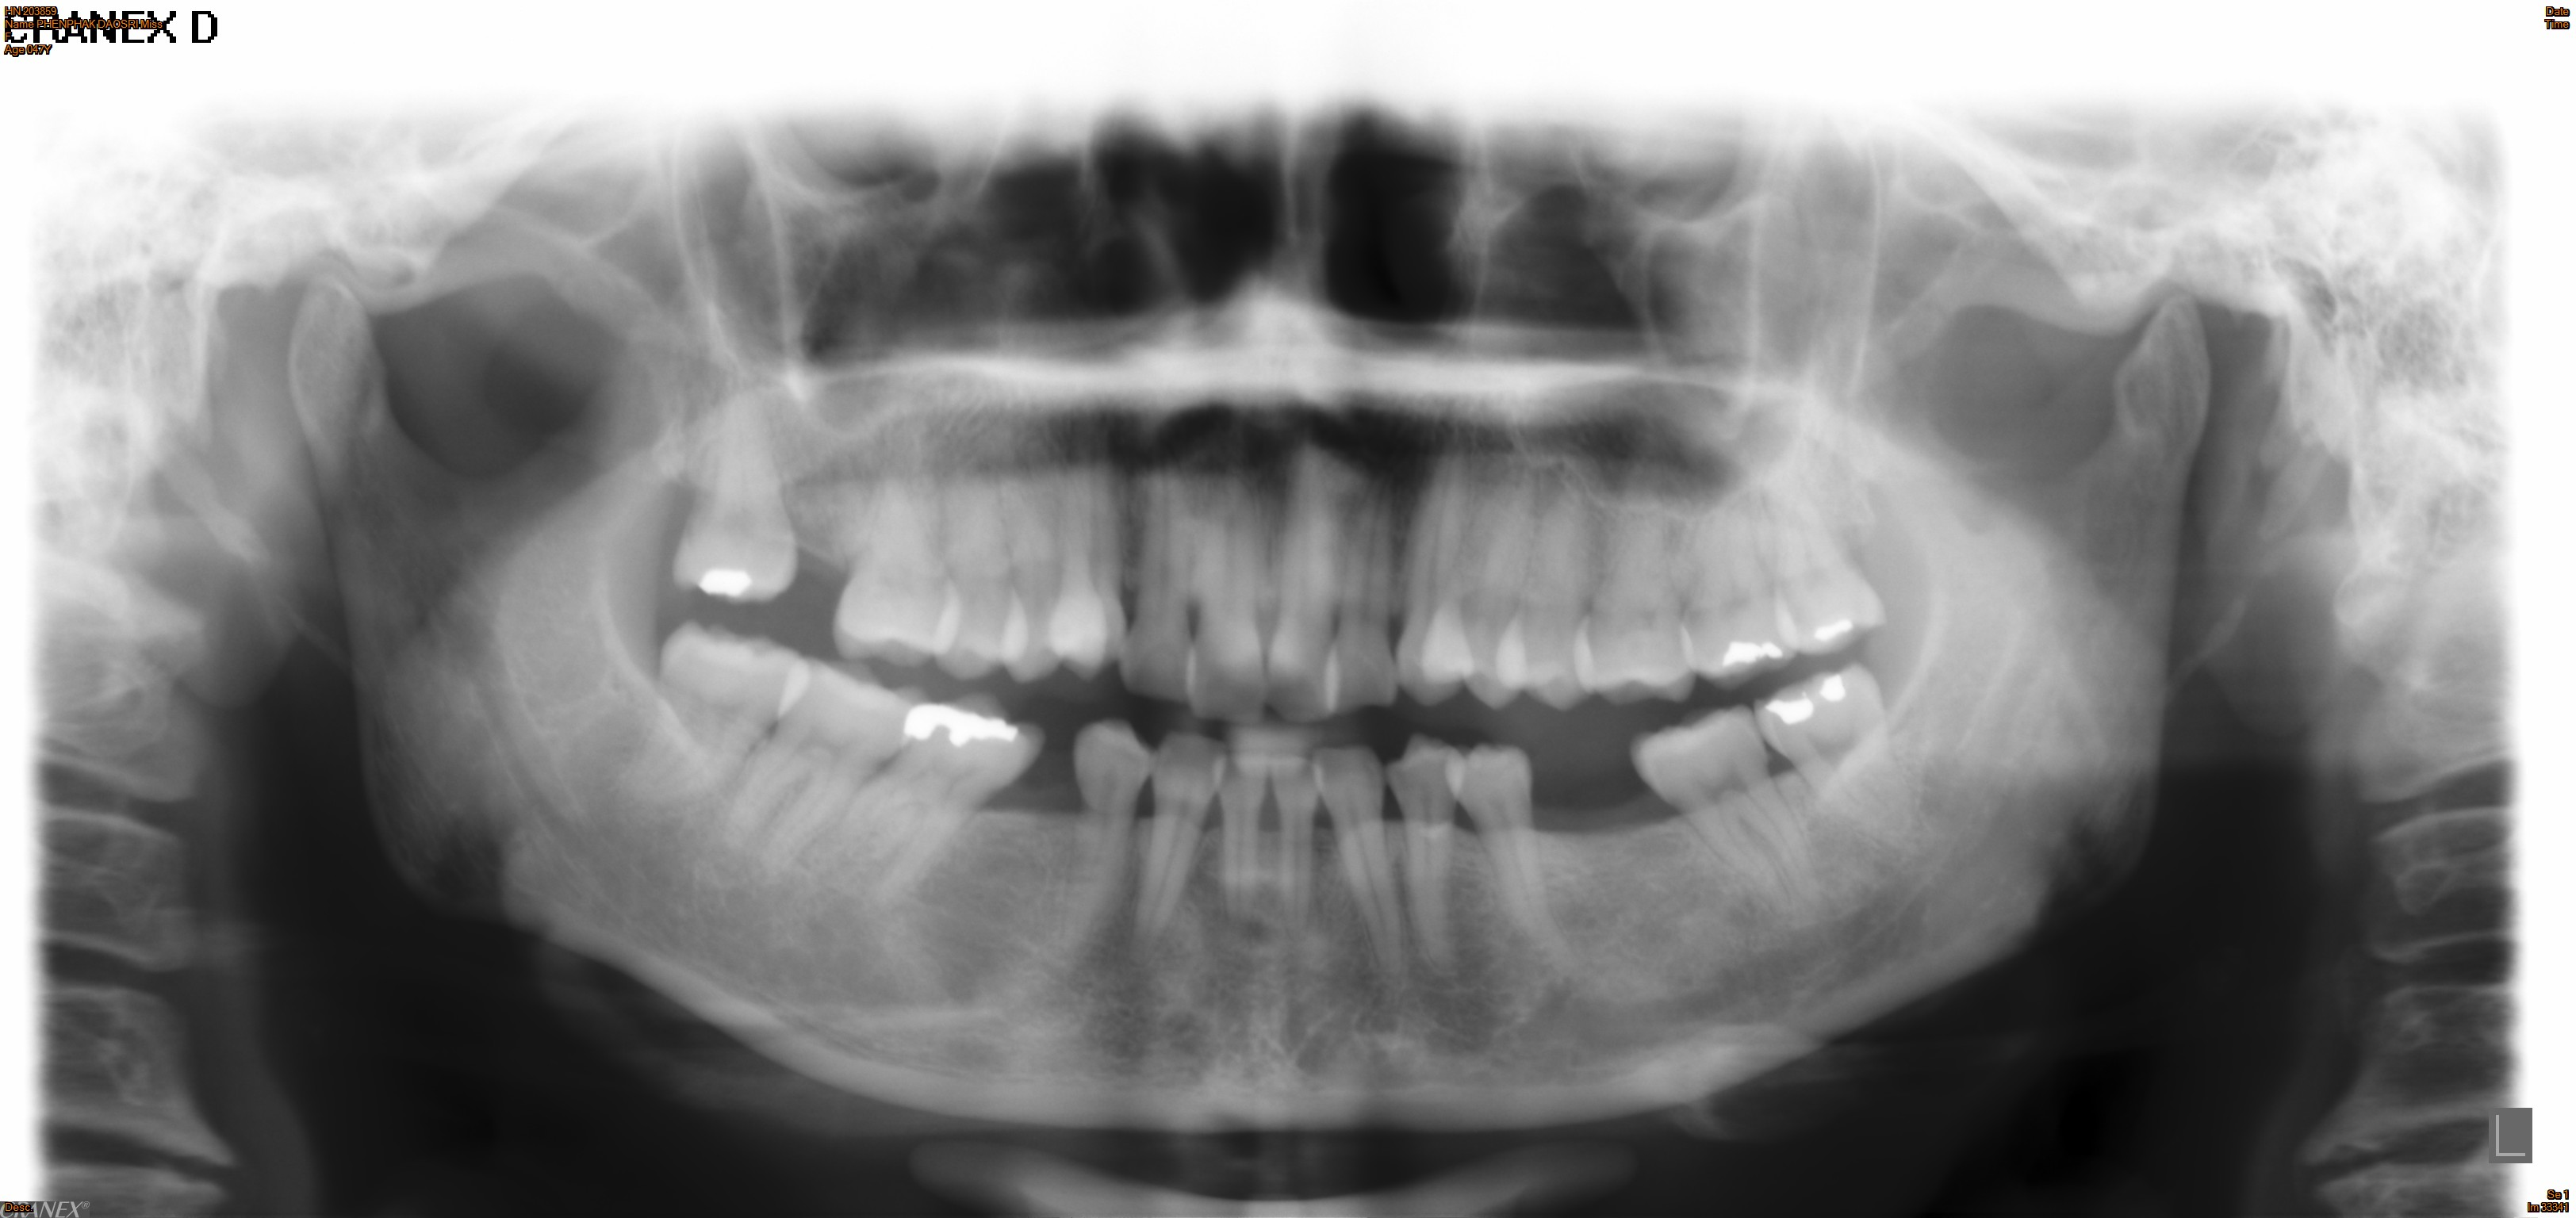periodontitis: (1438, 735, 1584, 982)
